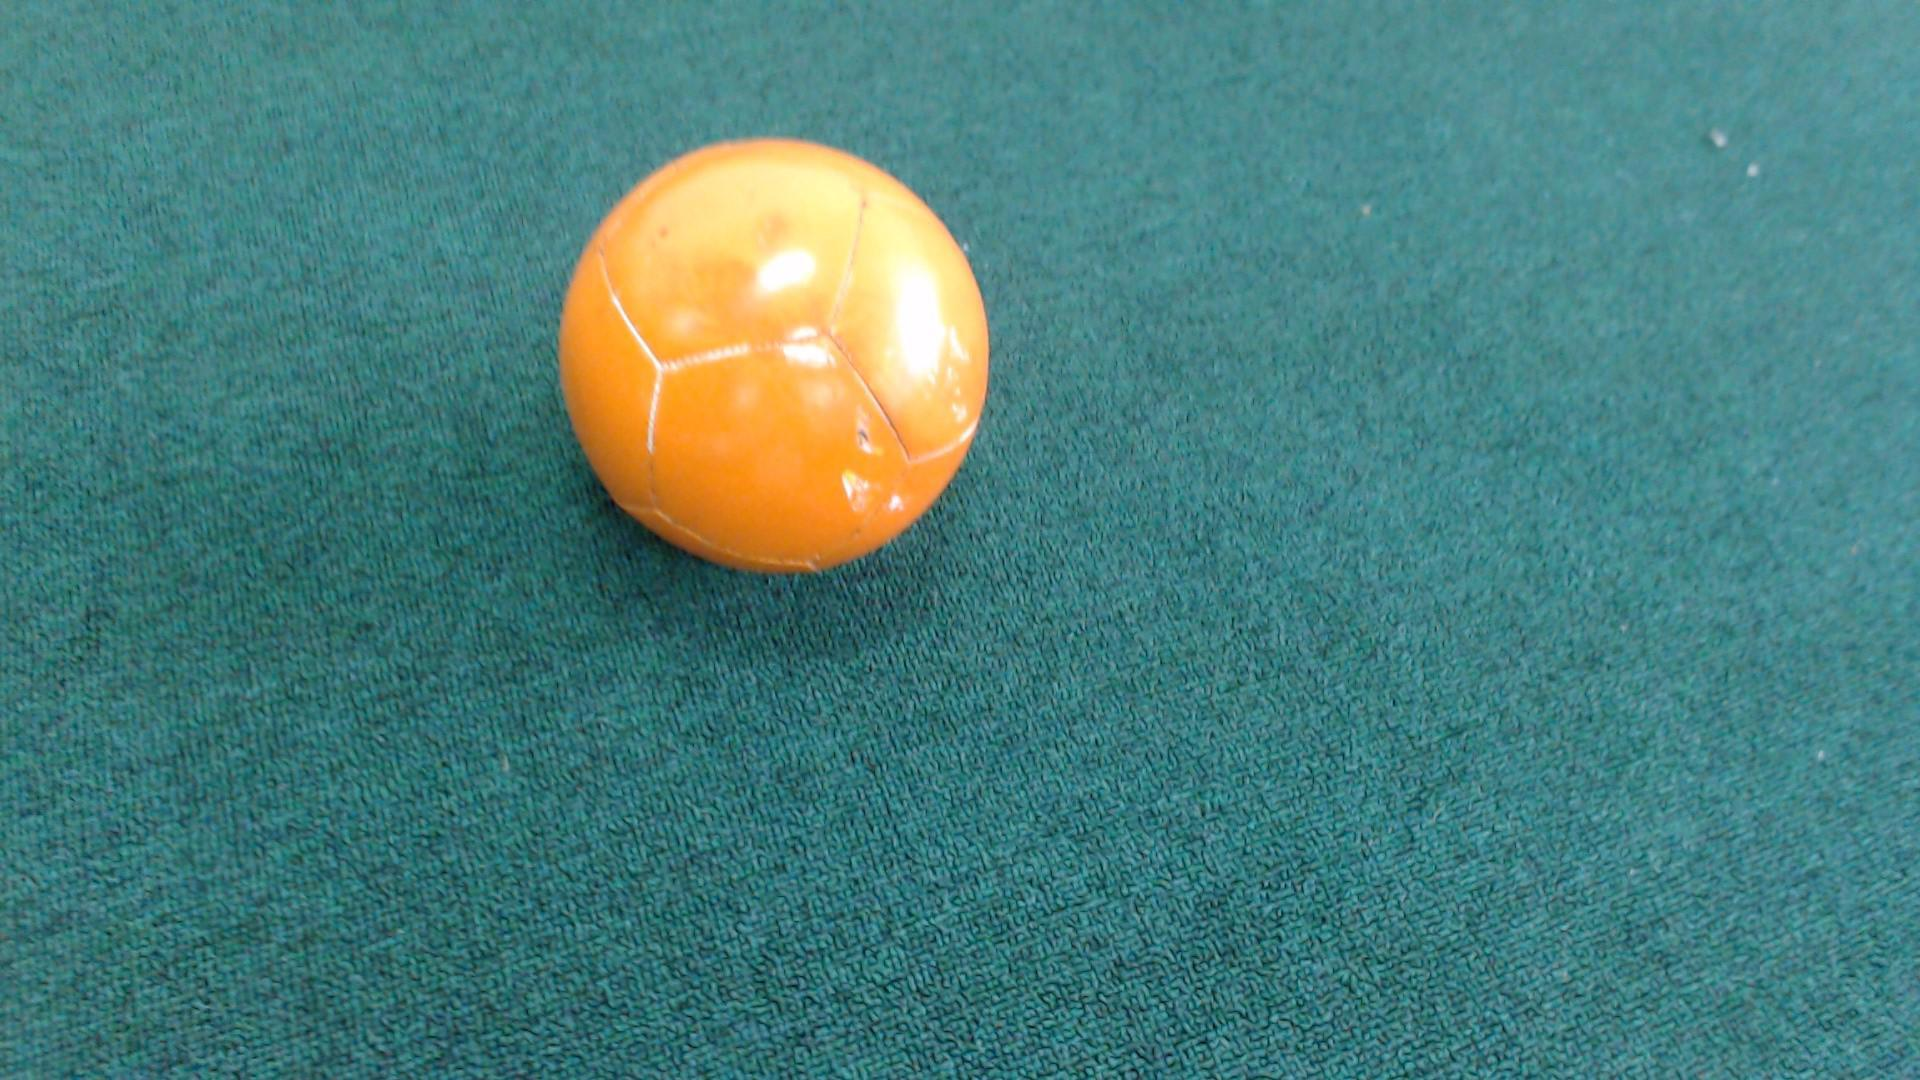bola: (534, 102, 1036, 615)
